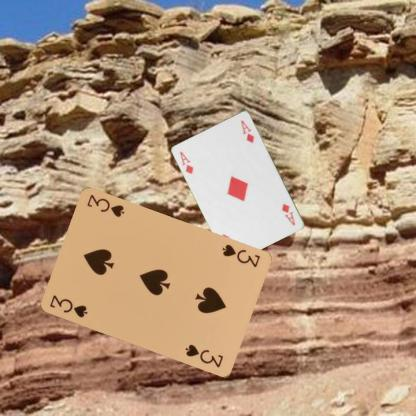3s: (218, 242, 262, 269), (47, 292, 89, 320)
Ad: (177, 149, 195, 175), (279, 201, 296, 227)
